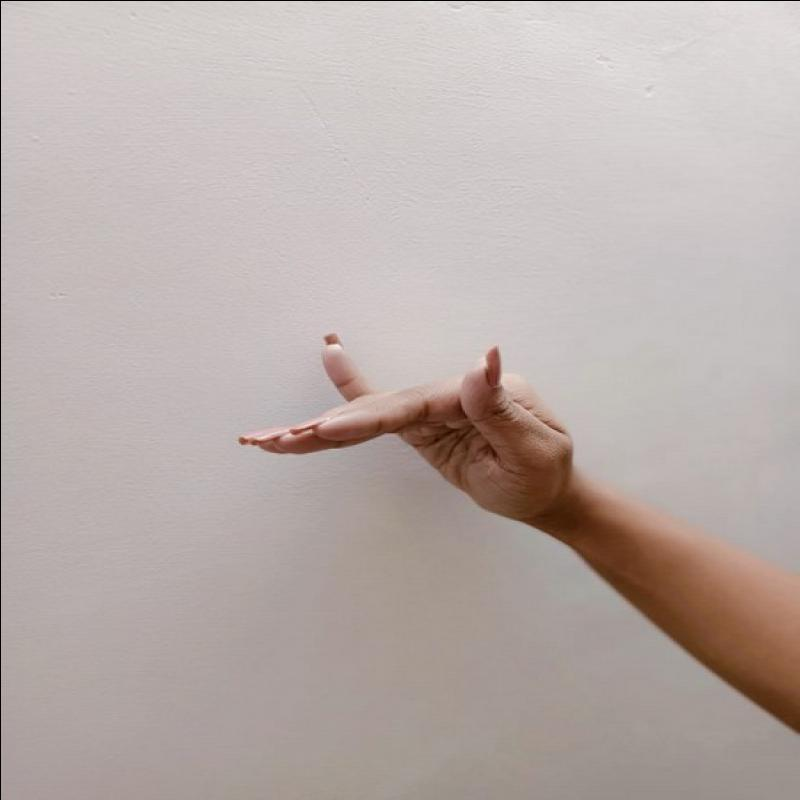Kartharee Mukham: (220, 310, 592, 531)
